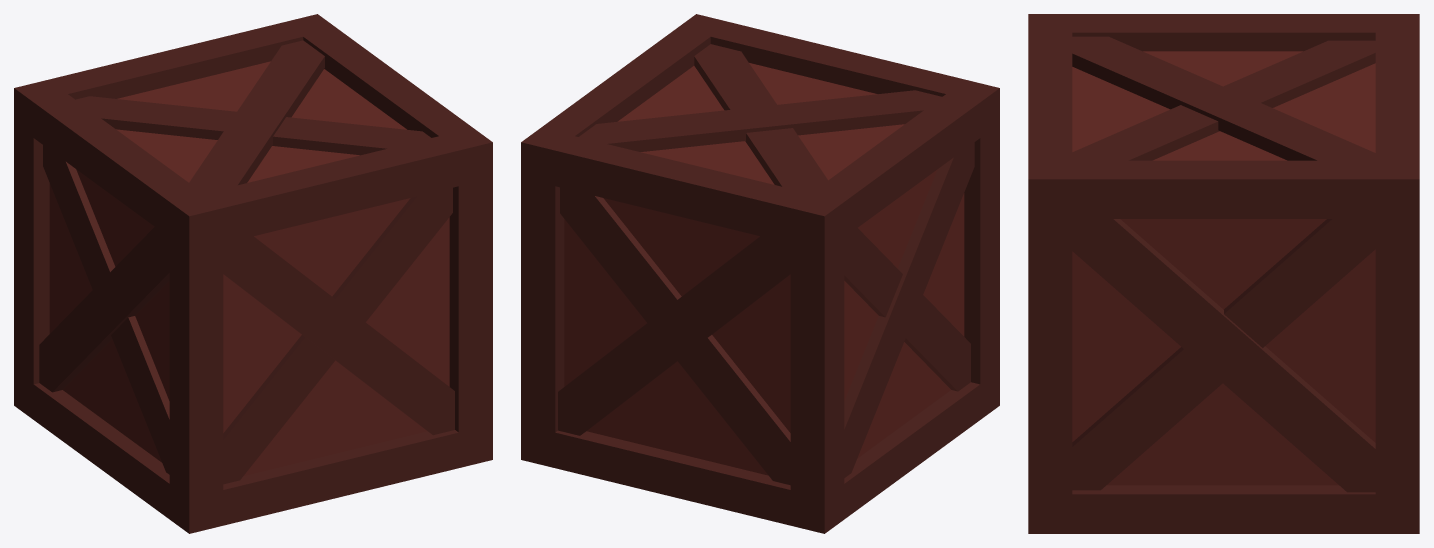
3 views of the same model, side by side, from view 1: azimuth 30°, elevation 25°; view 2: azimuth 150°, elevation 25°; view 3: azimuth 270°, elevation 25° (orthographic). The views are drawn at different scales.
Visible parts, largest first — view 1: Box_2; view 2: Box_2; view 3: Box_2.
Boxes of the visible parts, left/top/right/bottom form: Box_2: left=14, top=14, right=492, bottom=533; Box_2: left=521, top=14, right=999, bottom=533; Box_2: left=1028, top=14, right=1419, bottom=533.
Size of the model in its own units: 139 by 139 by 139.
